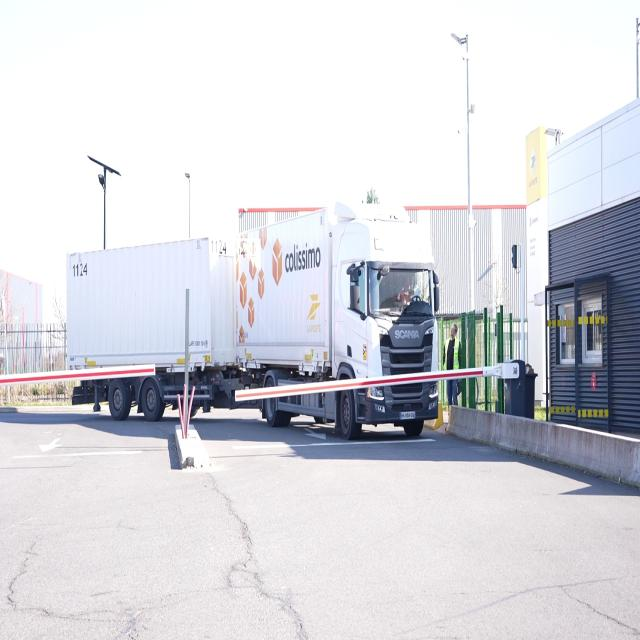Code: (69, 258, 90, 283)
